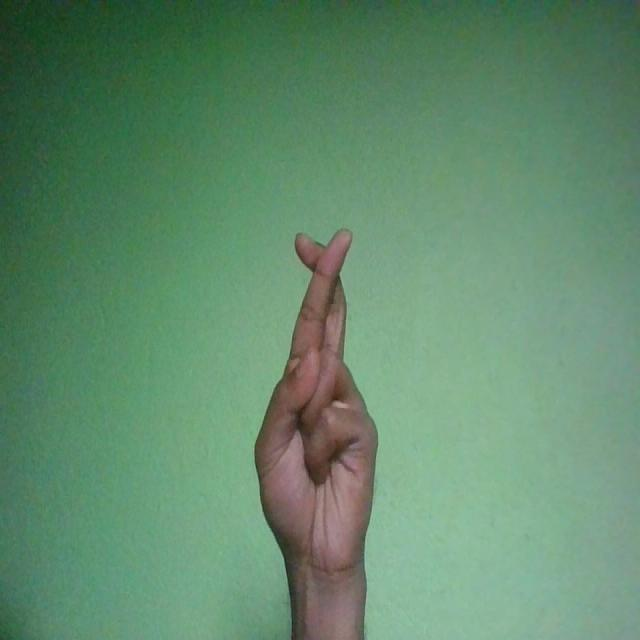Ok: (254, 229, 379, 582)
